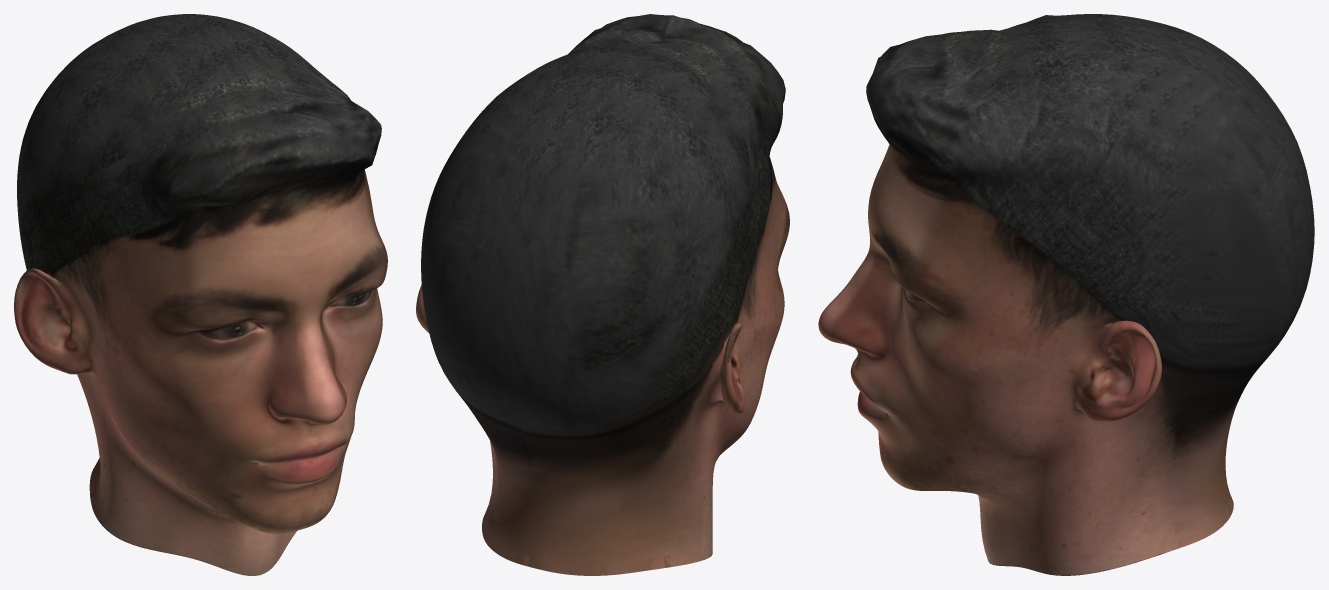
File: MyHead2.glb
3 views of the same model, side by side, from view 1: azimuth 30°, elevation 25°; view 2: azimuth 150°, elevation 25°; view 3: azimuth 270°, elevation 25° (orthographic). The views are drawn at different scales.
Visible parts, largest first — view 1: FaceBuilderHead; view 2: FaceBuilderHead; view 3: FaceBuilderHead.
Part boxes in pixels (<box>): FaceBuilderHead: <box>14,14,387,575</box>; FaceBuilderHead: <box>416,14,789,575</box>; FaceBuilderHead: <box>818,14,1314,575</box>.
Size of the model in its own units: 1.6 by 2.42 by 2.06.
Materials: 1 (1 with a texture image).
